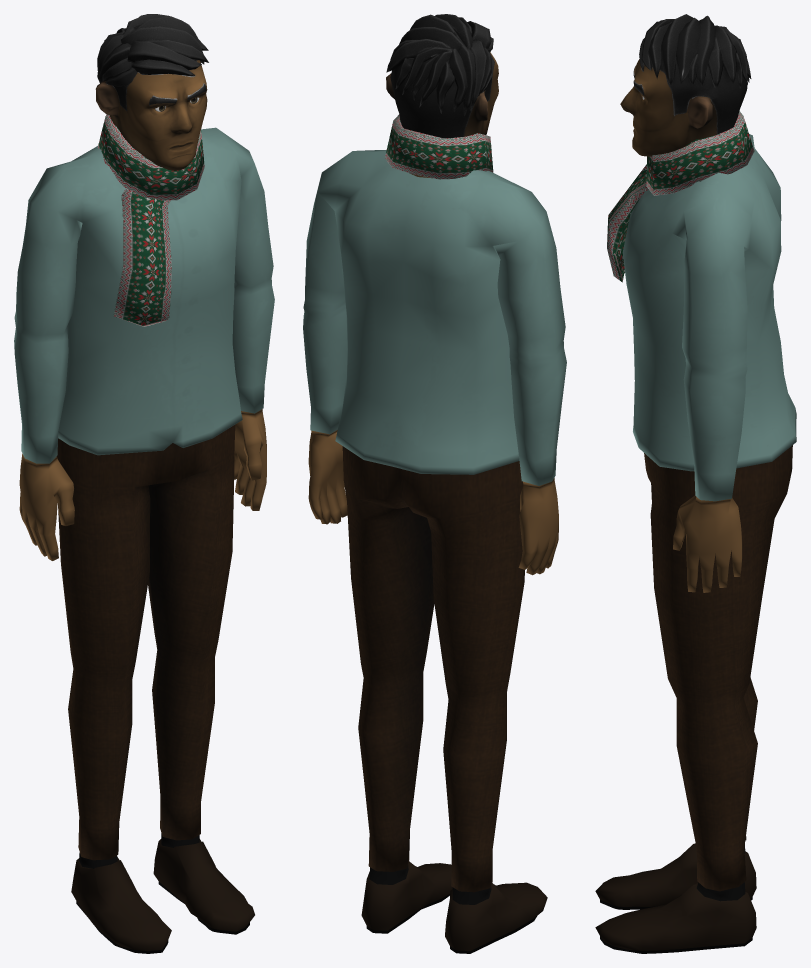
Rendered from NPC1.glb.
The picture shows the model from 3 angles, left to right: view 1: azimuth 30°, elevation 25°; view 2: azimuth 150°, elevation 25°; view 3: azimuth 270°, elevation 25°; orthographic projection.
Parts seen in each view (by area): view 1: M_lBody_BaseMesh.005; view 2: M_lBody_BaseMesh.005; view 3: M_lBody_BaseMesh.005.
Boxes of the visible parts, box(x1,y1,x2,y2) form: M_lBody_BaseMesh.005: box(14, 14, 274, 953); M_lBody_BaseMesh.005: box(303, 14, 566, 953); M_lBody_BaseMesh.005: box(595, 14, 796, 953).
Size of what is drawn, in the model's own units: 0.544 by 1.84 by 0.372.
Materials: 3 (3 with a texture image).
